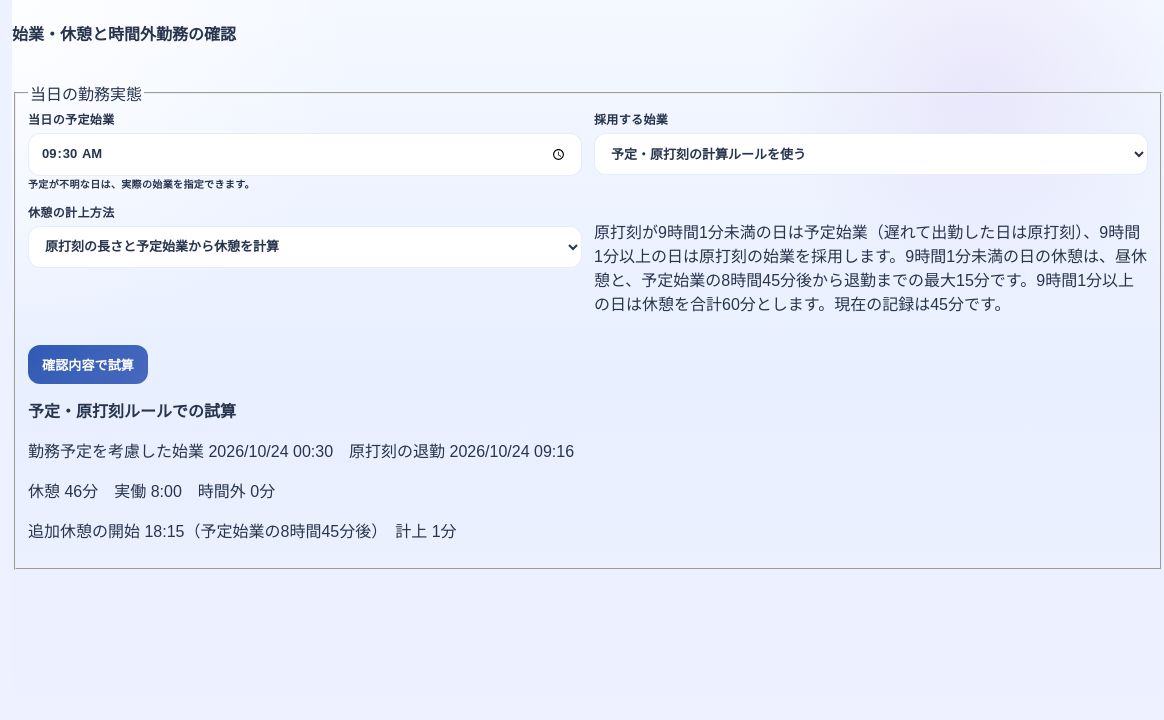
休憩不足の日次確認 › 予定始業9:30から18:15の追加休憩枠を表示し、退勤18:16なら休憩46分・実働8時間で確定できる
Later steps or results of the test are not shown.
Expected: the text "追加休憩の開始 18:15（予定始業の8時間45分後） 計上 1分" is shown, [28,523,457,540]
Expected: the text "休憩 46分 実働 8:00 時間外 0分" is shown, [28,483,275,500]
Select "実際に取得した休憩を入力" in the dropdown labelled "休憩の計上方法" at (305, 247), box [28,226,582,268]
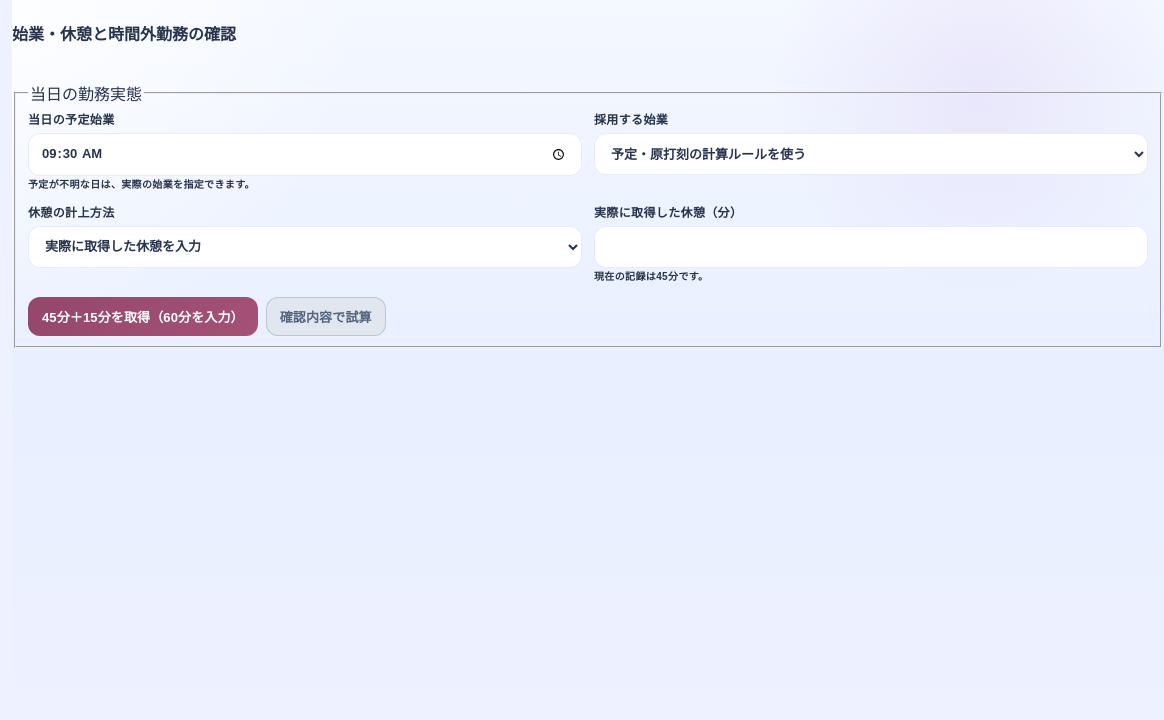
Result: the text "追加休憩の開始 18:15" is gone
